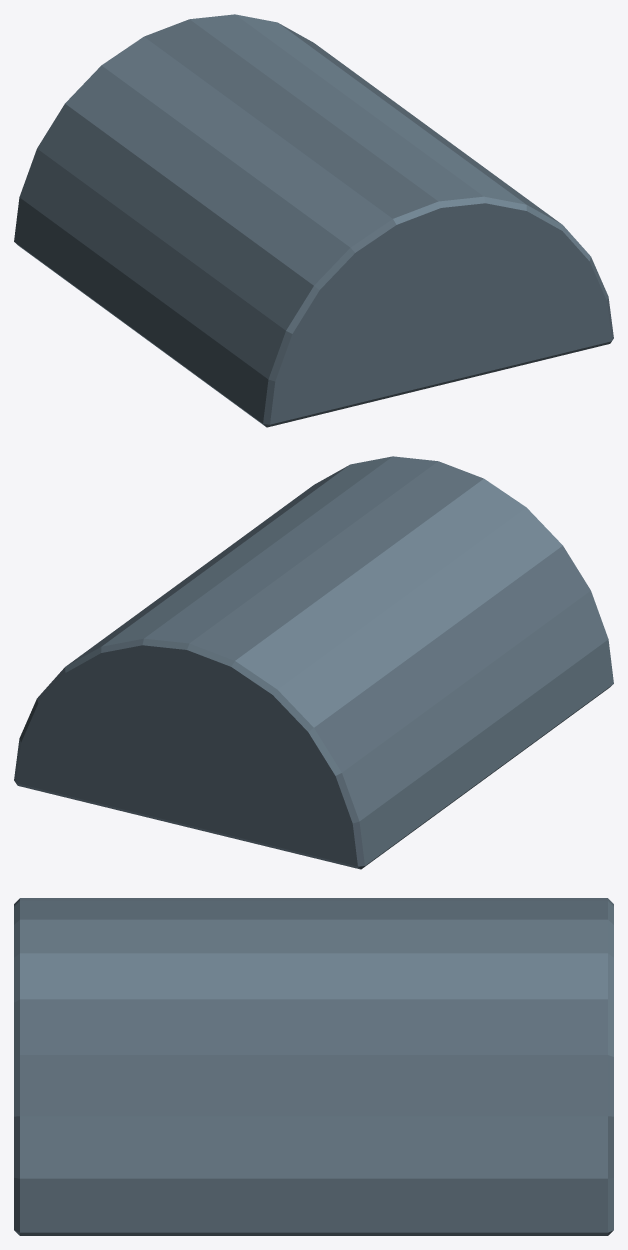
Rendered from P11_HalfCylinder.fbx.
3 renders of one model, top to bottom at view 1: azimuth 30°, elevation 25°; view 2: azimuth 150°, elevation 25°; view 3: azimuth 270°, elevation 25°, orthographic. The views are drawn at different scales.
Parts seen in each view (by area): view 1: P11_HalfCylinder; view 2: P11_HalfCylinder; view 3: P11_HalfCylinder.
Part boxes in pixels (x1,y1,x2,y2): P11_HalfCylinder: [14, 14, 613, 427]; P11_HalfCylinder: [14, 456, 613, 869]; P11_HalfCylinder: [14, 898, 613, 1235].
Size of the model in its own units: 1.2 by 0.6 by 1.5.
1 material, 1 textured.
